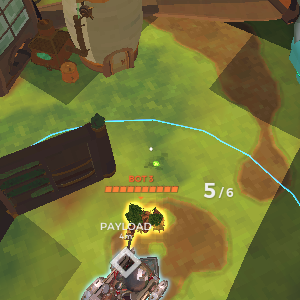model: (122, 200, 169, 242)
